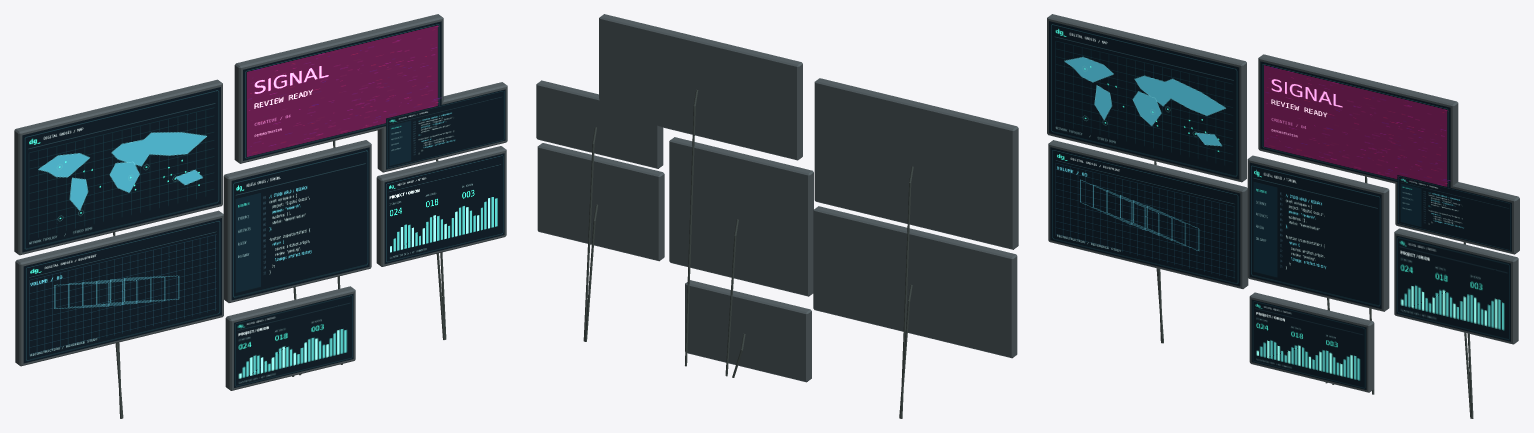
File: MonitorWall.glb
3 views of the same model, side by side, from view 1: azimuth 30°, elevation 25°; view 2: azimuth 150°, elevation 25°; view 3: azimuth 330°, elevation 25° (orthographic). The views are drawn at different scales.
Parts seen in each view (by area): view 1: MonitorWall__Screen_map__screen_map, MonitorWall__Screen_terminal__screen_terminal, MonitorWall__BlackenedSteel__mesh, MonitorWall__Screen_blueprint__screen_blueprint, MonitorWall__Screen_metrics__screen_metrics, MonitorWall__Screen_signal__screen_signal, MonitorWall__Rubber__mesh; view 2: MonitorWall__BlackenedSteel__mesh, MonitorWall__Rubber__mesh; view 3: MonitorWall__Screen_map__screen_map, MonitorWall__Screen_terminal__screen_terminal, MonitorWall__BlackenedSteel__mesh, MonitorWall__Screen_blueprint__screen_blueprint, MonitorWall__Screen_signal__screen_signal, MonitorWall__Screen_metrics__screen_metrics, MonitorWall__Rubber__mesh.
Part boxes in pixels (bbox=[...]): MonitorWall__Screen_map__screen_map: bbox=[22, 87, 220, 252]; MonitorWall__Screen_terminal__screen_terminal: bbox=[231, 89, 505, 300]; MonitorWall__BlackenedSteel__mesh: bbox=[14, 14, 507, 390]; MonitorWall__Screen_blueprint__screen_blueprint: bbox=[23, 218, 221, 363]; MonitorWall__Screen_metrics__screen_metrics: bbox=[234, 153, 504, 387]; MonitorWall__Screen_signal__screen_signal: bbox=[243, 21, 441, 160]; MonitorWall__Rubber__mesh: bbox=[113, 141, 446, 418]; MonitorWall__BlackenedSteel__mesh: bbox=[536, 14, 1018, 382]; MonitorWall__Rubber__mesh: bbox=[583, 89, 913, 418]; MonitorWall__Screen_map__screen_map: bbox=[1049, 21, 1239, 179]; MonitorWall__Screen_terminal__screen_terminal: bbox=[1249, 162, 1511, 308]; MonitorWall__BlackenedSteel__mesh: bbox=[1047, 14, 1519, 392]; MonitorWall__Screen_blueprint__screen_blueprint: bbox=[1050, 147, 1240, 286]; MonitorWall__Screen_signal__screen_signal: bbox=[1260, 61, 1450, 187]; MonitorWall__Screen_metrics__screen_metrics: bbox=[1251, 235, 1510, 389]; MonitorWall__Rubber__mesh: bbox=[1154, 161, 1473, 418].
Bounding box in the file's own units: 4.35 × 2.82 × 0.156.
7 materials, 5 textured.
